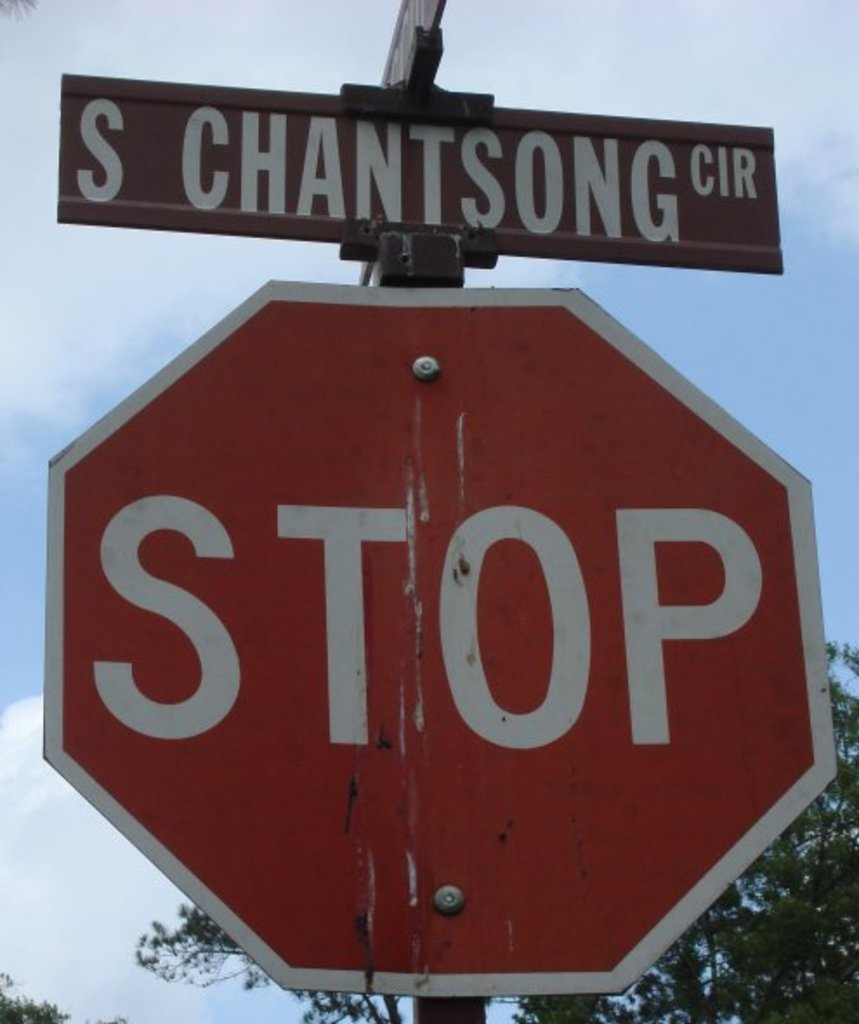stop_sign: (52, 286, 838, 990)
